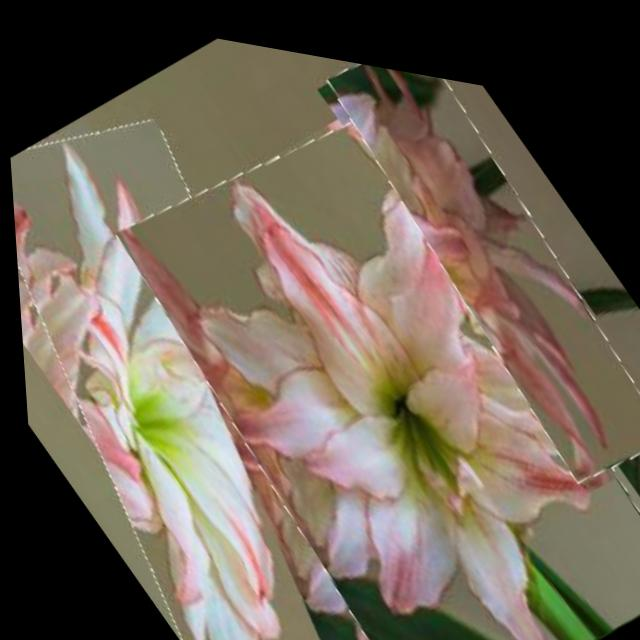Flower: (84, 41, 640, 640), (4, 82, 474, 640), (308, 43, 640, 474)
